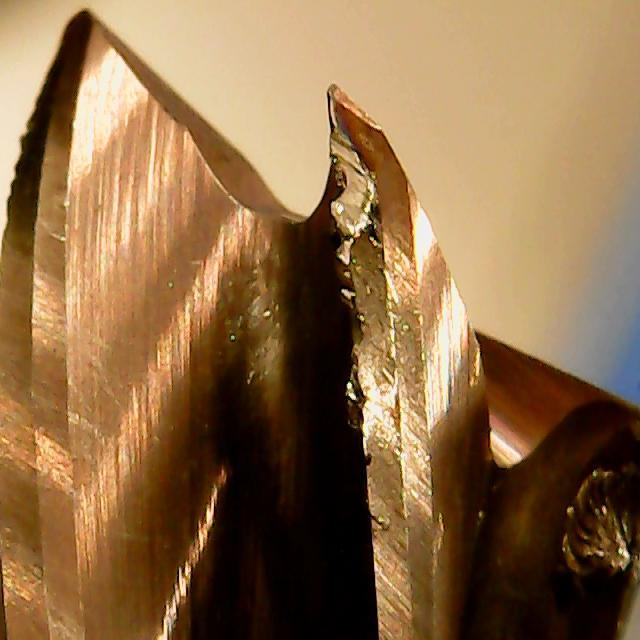Tool-wear-class-2: (301, 72, 489, 386)
